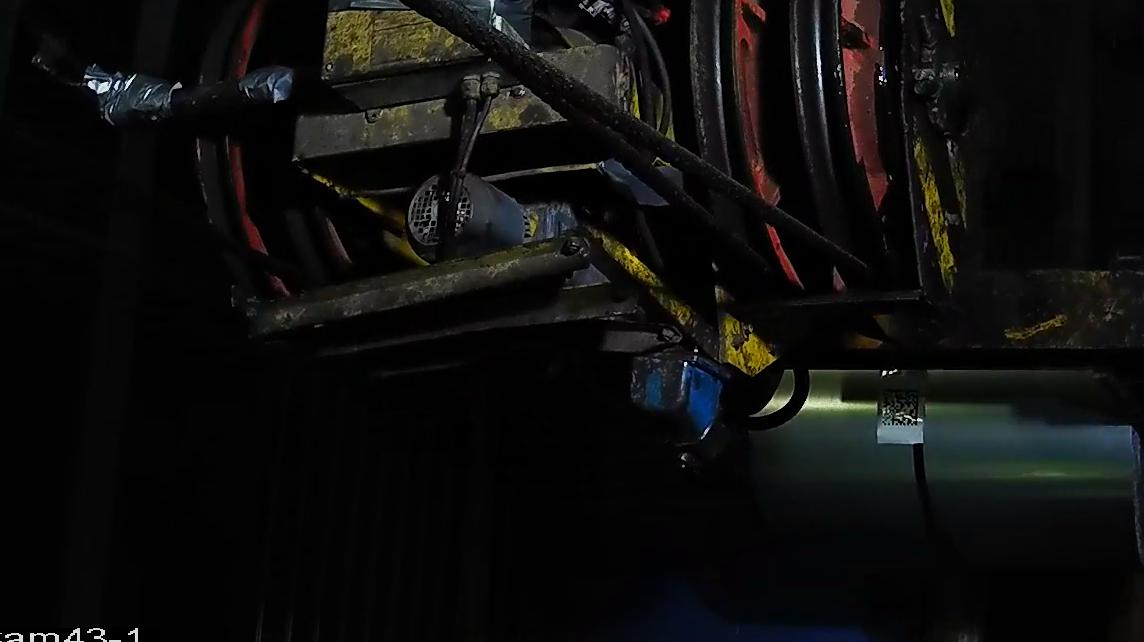data matrix: (878, 387, 922, 429)
